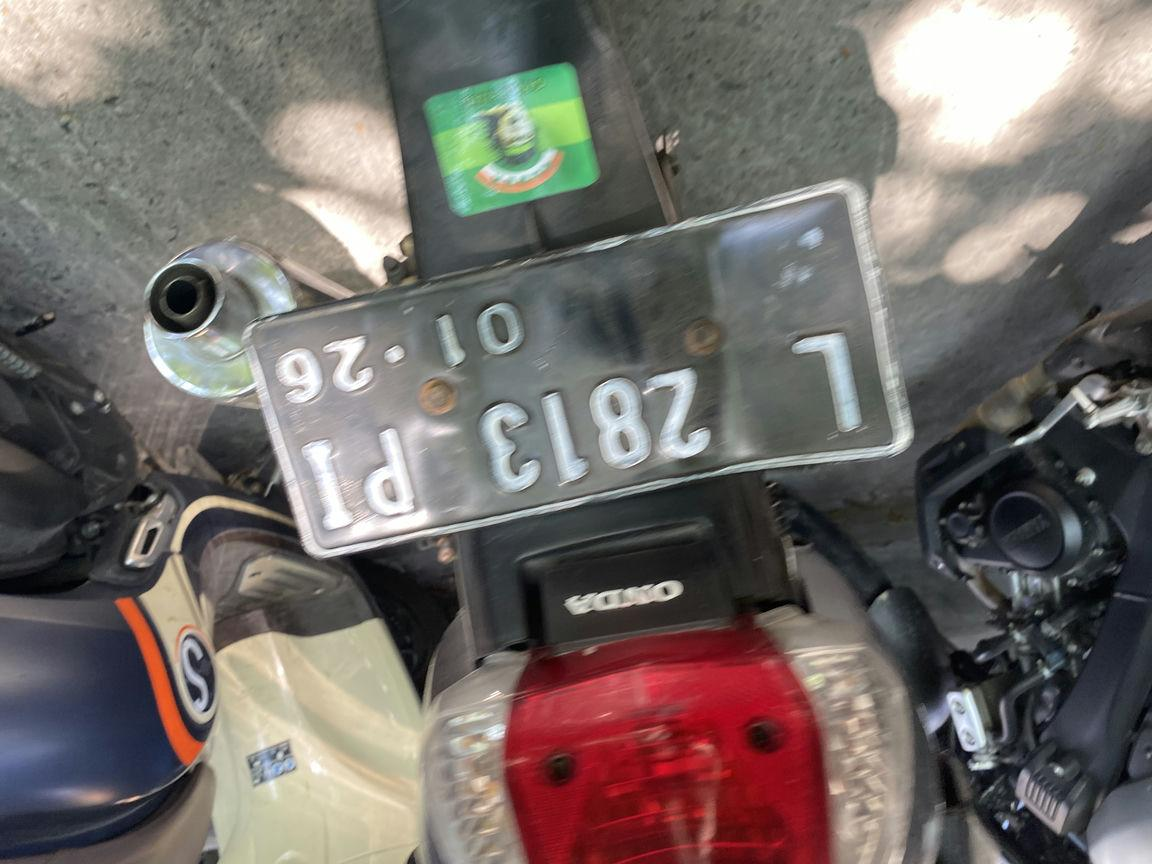plat: (241, 308, 907, 684)
